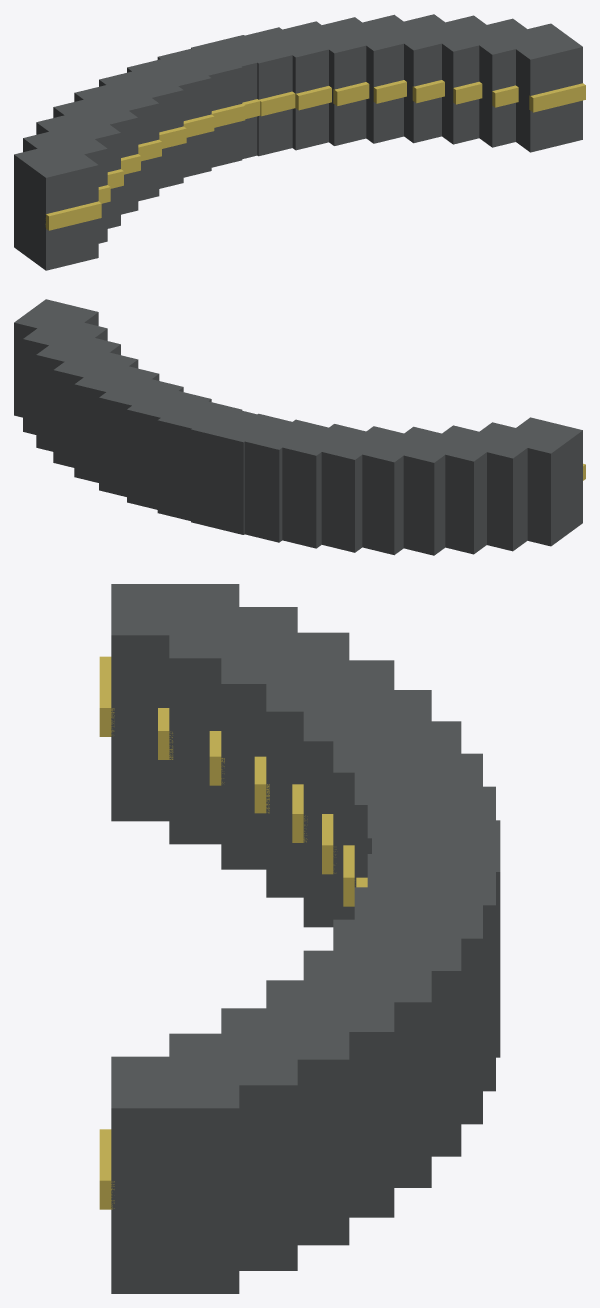
File: rubber-bumper.glb
The picture shows the model from 3 angles, top to bottom: view 1: azimuth 30°, elevation 25°; view 2: azimuth 150°, elevation 25°; view 3: azimuth 270°, elevation 25°; orthographic projection. The views are drawn at different scales.
Visible parts, largest first — view 1: world; view 2: world; view 3: world.
Part boxes in pixels (box(x1,y1,x2,y2)): world: box(14, 14, 585, 270); world: box(14, 299, 585, 555); world: box(99, 584, 500, 1293).
Bounding box in the file's own units: 0.9683 × 0.16 × 0.3126.
